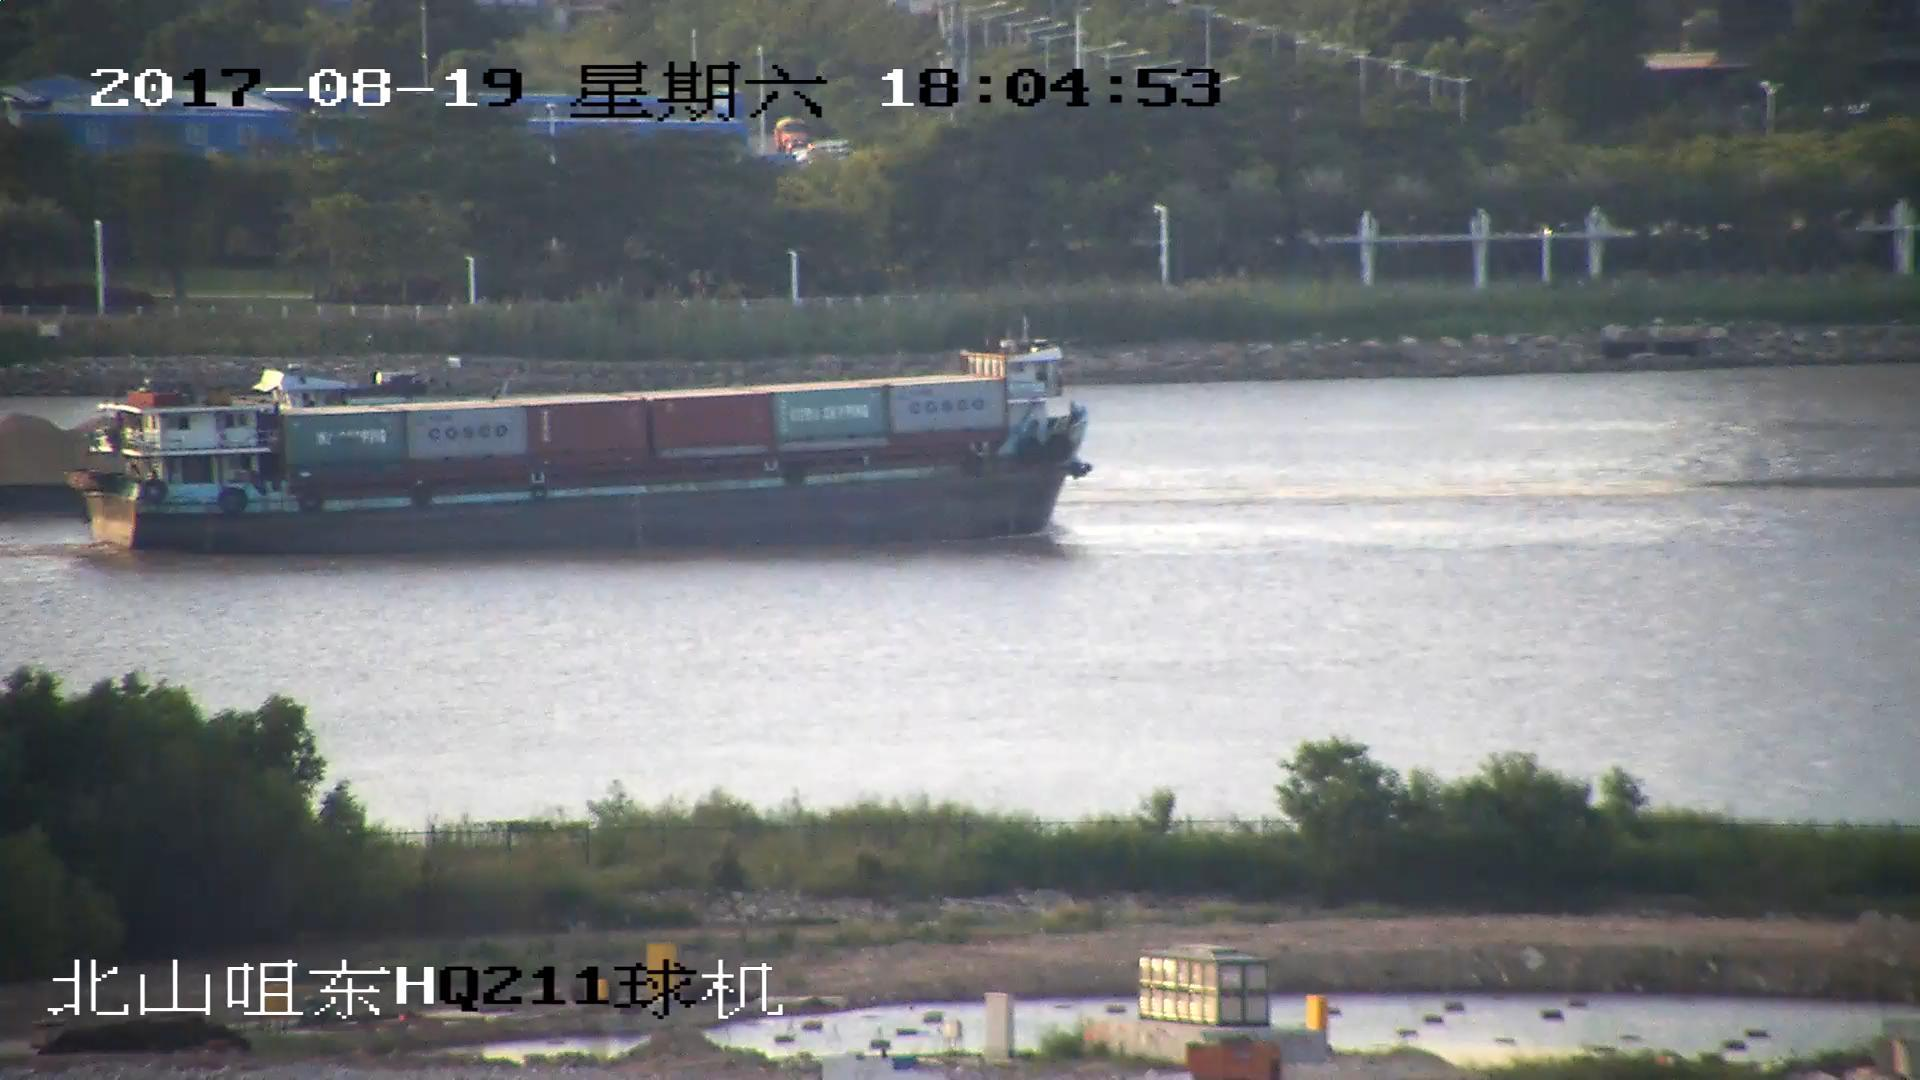Ship: (79, 338, 1087, 553)
